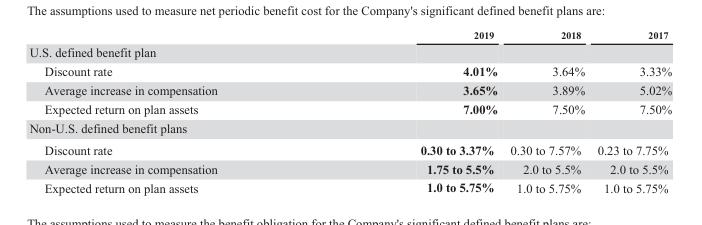table: (28, 29, 671, 194)
table column: (28, 29, 318, 194), (318, 29, 503, 194), (503, 29, 590, 194), (590, 29, 671, 194)
table column header: (28, 29, 671, 42)
table projected row header: (28, 118, 671, 138), (28, 42, 671, 61)
table row: (28, 118, 671, 138), (28, 138, 671, 158), (28, 42, 671, 61), (28, 61, 671, 80), (28, 80, 671, 99), (28, 99, 671, 118), (28, 158, 671, 177), (28, 177, 671, 194), (28, 29, 671, 42)
